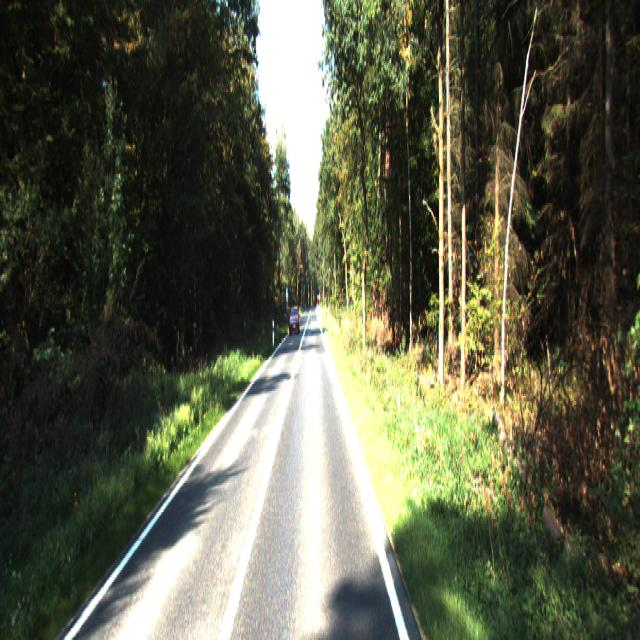Car: (288, 306, 300, 336)
